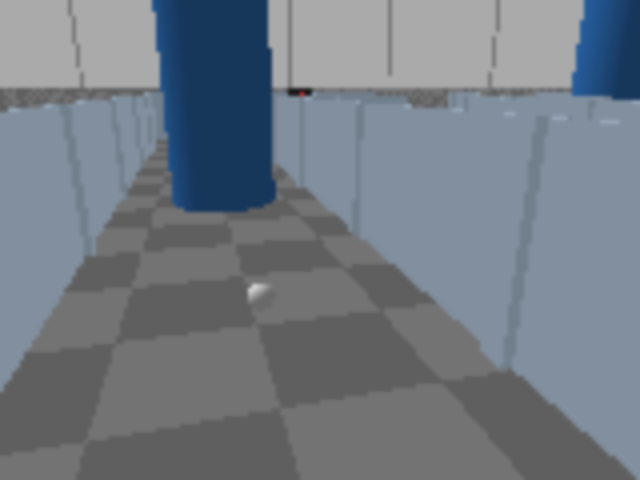puck: (242, 277, 278, 316)
